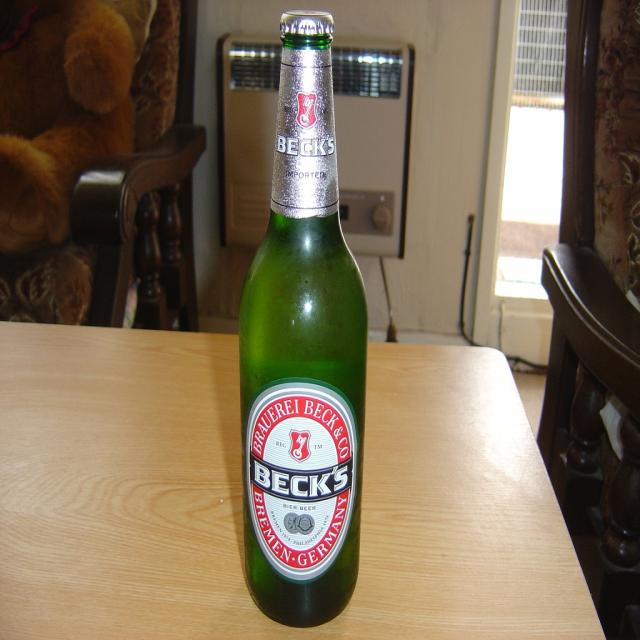becks: (246, 383, 358, 583)
